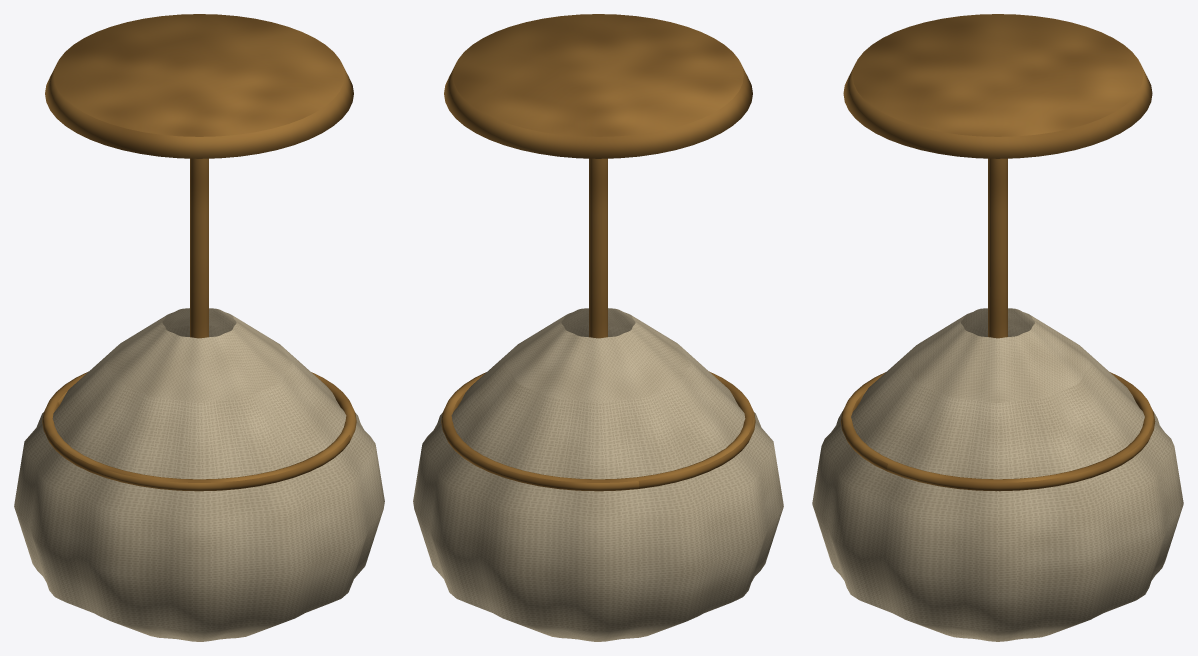
Rendered from Pendant.fbx.
The picture shows the model from 3 angles, left to right: view 1: azimuth 30°, elevation 25°; view 2: azimuth 150°, elevation 25°; view 3: azimuth 270°, elevation 25°; orthographic projection.
Visible parts, largest first — view 1: Pendant_Glow, Pendant_Brass; view 2: Pendant_Glow, Pendant_Brass; view 3: Pendant_Glow, Pendant_Brass.
Part boxes in pixels (<box>): Pendant_Glow: <box>14,308,384,641</box>; Pendant_Brass: <box>42,14,356,491</box>; Pendant_Glow: <box>413,308,783,641</box>; Pendant_Brass: <box>441,14,755,491</box>; Pendant_Glow: <box>812,308,1183,641</box>; Pendant_Brass: <box>840,14,1155,491</box>.
Size of the model in its own units: 40.88 by 65 by 40.88.
